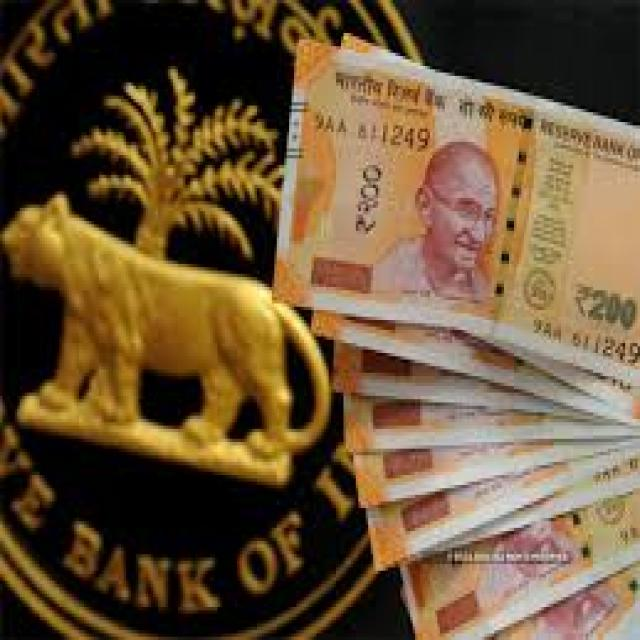200rs: (306, 45, 640, 411), (351, 392, 640, 640)
